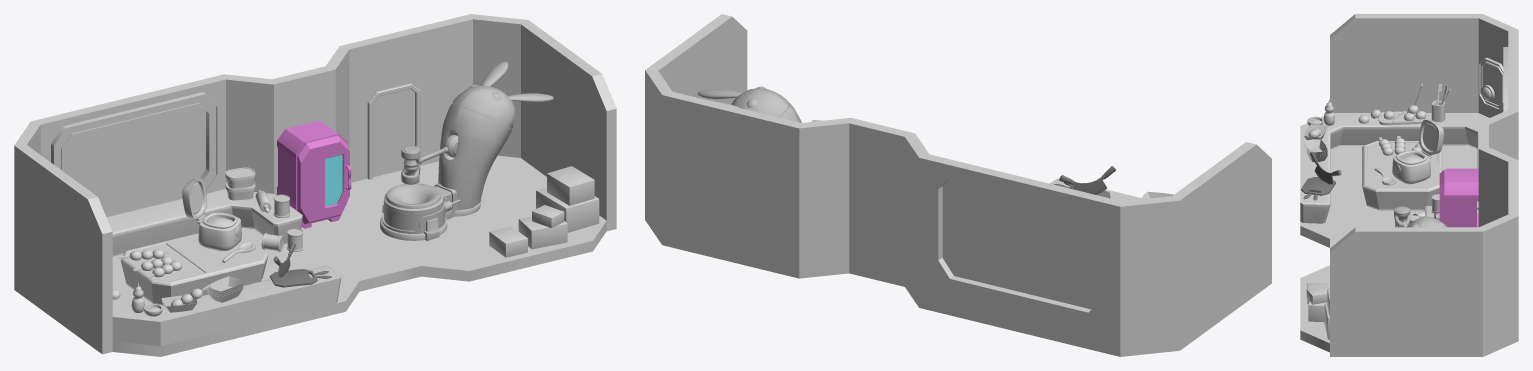
Rendered from MochiMochiSpaceRabbit_FINAL_CUISINE.fbx.
3 renders of one model, left to right at view 1: azimuth 30°, elevation 25°; view 2: azimuth 150°, elevation 25°; view 3: azimuth 270°, elevation 25°, orthographic. The views are drawn at different scales.
Parts seen in each view (by area): view 1: SM_Kitchen_Wall007, SM_Kitchen_Floor013, SM_Countertop008, SM_Rideau_Fenetre, SM_RobotBunny004, SM_Fridge_Part010, SM_CardBoardBoxes, SM_Station_RiceCooker, SM_IceCream013, SM_Station_Toppings, SM_RobotHammer004, SM_Station_CuttingBoard_weird001 (+2 smaller); view 2: SM_Kitchen_Wall007, SM_Rideau_Fenetre, SM_RobotBunny004, SM_Station_CuttingBoard_weird001; view 3: SM_Kitchen_Wall007, SM_Countertop008, SM_Kitchen_Floor013, SM_Fridge_Part010, SM_Station_RiceCooker, SM_Station_Skewers001, SM_Button_Pannel, SM_Station_Toppings, SM_CardBoardBoxes, SM_Station_CuttingBoard_weird001, SM_Grill, SM_Grill_Brochettes (+3 smaller).
Part boxes in pixels (left/top/right/bottom): SM_Kitchen_Wall007: left=14, top=14, right=616, bottom=354; SM_Kitchen_Floor013: left=112, top=155, right=606, bottom=356; SM_Countertop008: left=107, top=189, right=341, bottom=346; SM_Rideau_Fenetre: left=62, top=104, right=205, bottom=217; SM_RobotBunny004: left=380, top=61, right=553, bottom=240; SM_Fridge_Part010: left=277, top=120, right=351, bottom=228; SM_CardBoardBoxes: left=489, top=166, right=599, bottom=257; SM_Station_RiceCooker: left=182, top=178, right=255, bottom=262; SM_IceCream013: left=225, top=167, right=303, bottom=251; SM_Station_Toppings: left=131, top=276, right=243, bottom=316; SM_RobotHammer004: left=401, top=135, right=458, bottom=184; SM_Station_CuttingBoard_weird001: left=269, top=242, right=331, bottom=287; SM_Kitchen_Wall007: left=645, top=14, right=1271, bottom=356; SM_Rideau_Fenetre: left=942, top=179, right=1101, bottom=309; SM_RobotBunny004: left=698, top=86, right=801, bottom=122; SM_Station_CuttingBoard_weird001: left=1054, top=166, right=1115, bottom=198; SM_Kitchen_Wall007: left=1330, top=14, right=1518, bottom=356; SM_Countertop008: left=1300, top=113, right=1488, bottom=223; SM_Kitchen_Floor013: left=1300, top=145, right=1477, bottom=352; SM_Fridge_Part010: left=1434, top=168, right=1478, bottom=227; SM_Station_RiceCooker: left=1374, top=120, right=1443, bottom=185; SM_Station_Skewers001: left=1358, top=84, right=1450, bottom=125; SM_Button_Pannel: left=1478, top=57, right=1503, bottom=109; SM_Station_Toppings: left=1304, top=99, right=1334, bottom=162; SM_CardBoardBoxes: left=1306, top=283, right=1329, bottom=339; SM_Station_CuttingBoard_weird001: left=1301, top=151, right=1341, bottom=200; SM_Grill: left=1367, top=143, right=1437, bottom=161; SM_Grill_Brochettes: left=1378, top=136, right=1422, bottom=155.
Bounding box in the file's own units: 580 × 246 × 156.
